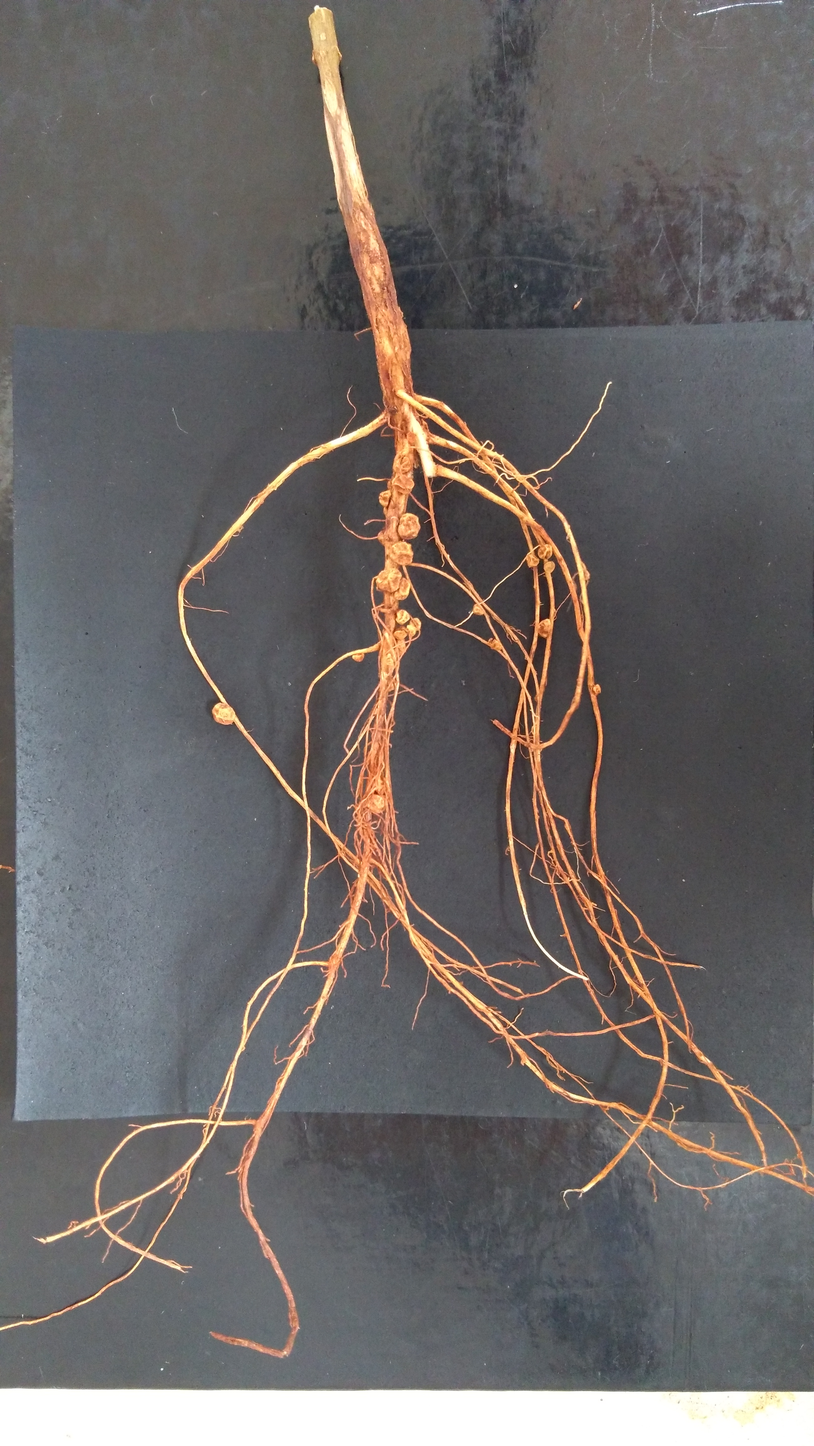nodule: (374, 567, 402, 592), (398, 512, 421, 540), (389, 541, 413, 566), (212, 702, 235, 725), (365, 793, 390, 813), (392, 450, 412, 475), (369, 768, 386, 795), (392, 474, 414, 494), (393, 577, 410, 601), (376, 675, 398, 693), (537, 618, 552, 639), (393, 637, 407, 657), (395, 609, 411, 625), (379, 489, 392, 508), (393, 625, 408, 640), (537, 544, 552, 559), (526, 553, 540, 568), (386, 650, 399, 666), (398, 438, 409, 456), (408, 617, 421, 631), (377, 529, 388, 545), (542, 560, 555, 573), (490, 639, 503, 651), (406, 624, 417, 638), (473, 602, 484, 616), (420, 418, 429, 433), (351, 652, 364, 662), (406, 431, 416, 444), (386, 475, 395, 489), (591, 684, 602, 695), (383, 505, 388, 516), (533, 694, 539, 702)
